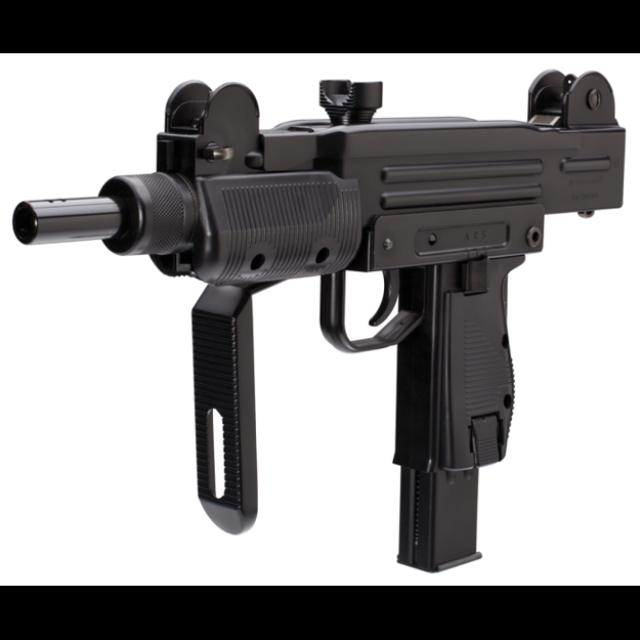SMG: (13, 72, 629, 575)
